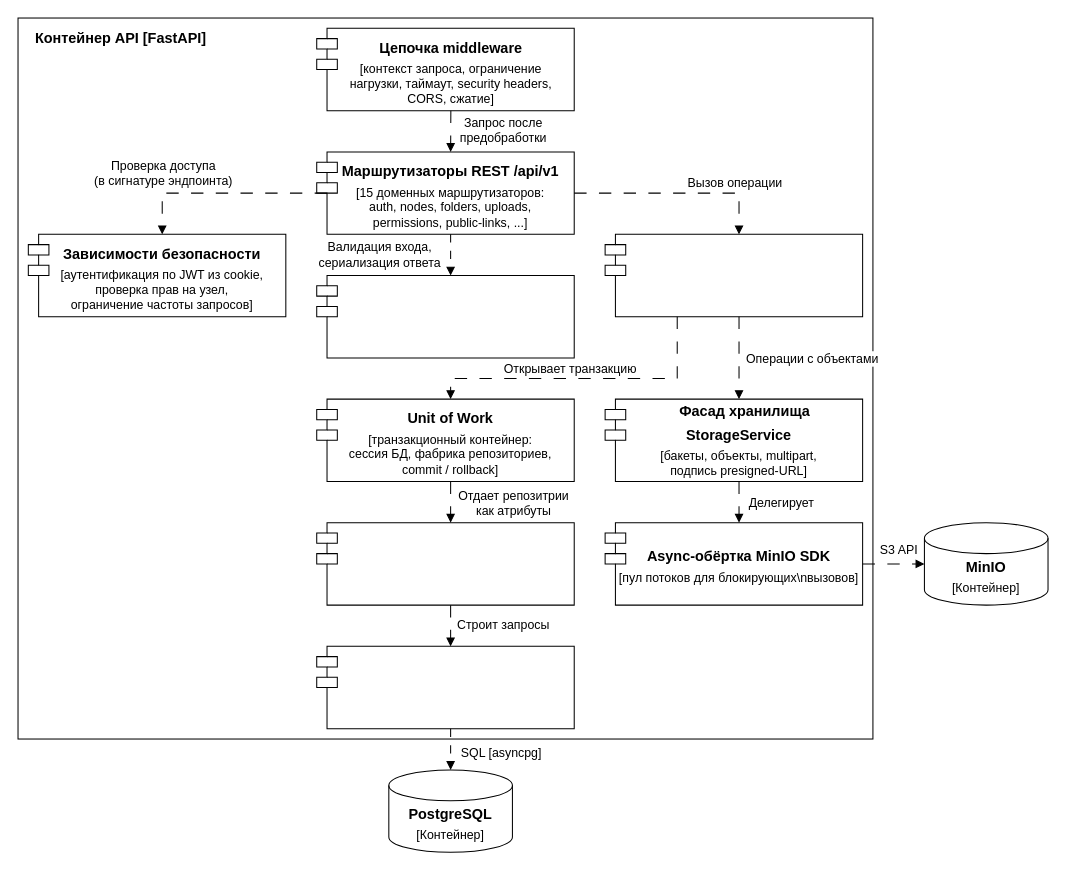
Some shapes in this 1066 by 870 pixel diagram are drawn without their labels. The shapes that lost their labels are listed below. From the top down, each one's centre as x and y in pixels, then its label:
(x=733, y=275): Доменные сервисы [16 сервисов бизнес-логики, не зависят от FastAPI]
(x=445, y=316): Схемы запросов/ответов [Pydantic v2: валидация входных данных]
(x=445, y=563): Репозитории [15 репозиториев: запросы, рекурсивные CTE для деревьев]
(x=445, y=687): ORM-модели [SQLAlchemy 2, async]
